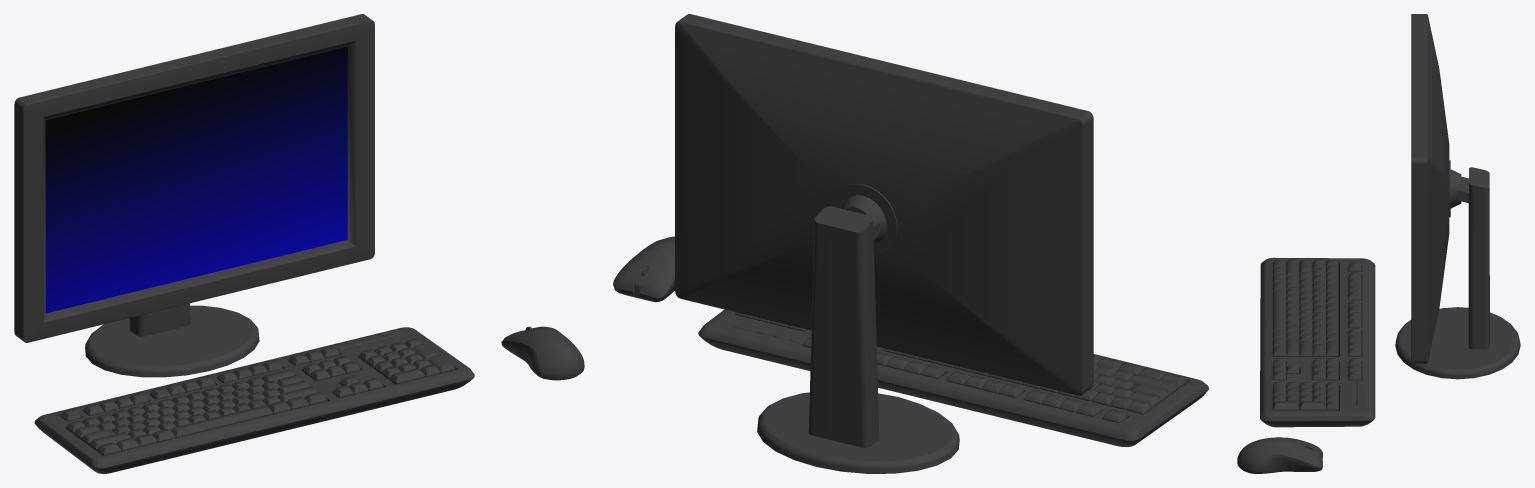
Rendered from computer.glb.
The picture shows the model from 3 angles, left to right: view 1: azimuth 30°, elevation 25°; view 2: azimuth 150°, elevation 25°; view 3: azimuth 270°, elevation 25°; orthographic projection. The views are drawn at different scales.
Visible parts, largest first — view 1: node_id30, Plane; view 2: node_id30; view 3: node_id30.
Boxes of the visible parts, x1,y1,x2,y2 form: node_id30: (14, 14, 584, 473); Plane: (45, 46, 347, 313); node_id30: (613, 14, 1208, 473); node_id30: (1237, 14, 1520, 473).
Size of the model in its own units: 0.7131 by 0.4348 by 0.4202.
Materials: 2 (2 with a texture image).
